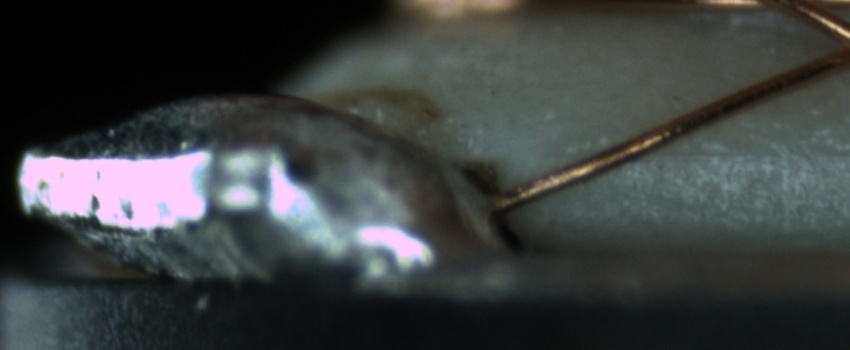CL: (804, 14, 850, 79)
DL: (612, 119, 850, 183)
